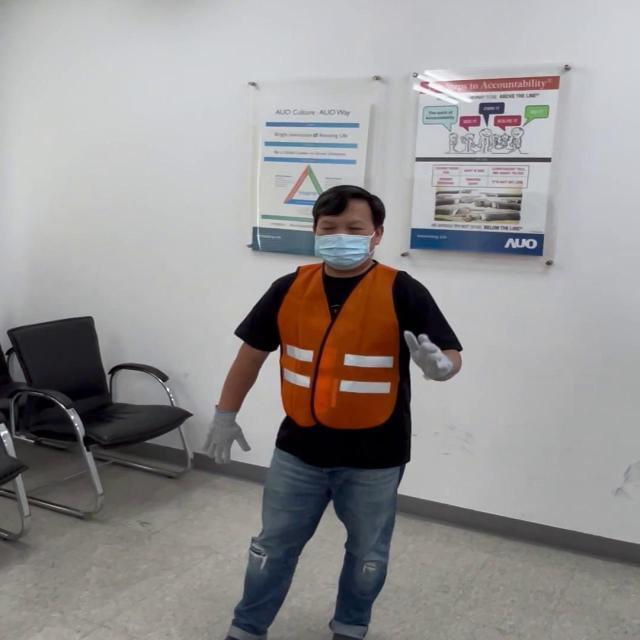gloved_hand: (204, 400, 255, 461), (404, 329, 456, 382)
